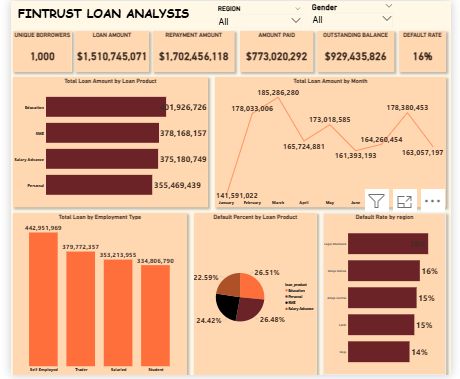

The dashboard page shown, as its layout file describes it:
{"tool":"powerbi","page":{"name":"LOAN","canvas":[2000,1700],"ordinal":0},"visuals":[{"type":"card","title":"UNIQUE BORROWERS","fields":{"Values":["CountNonNull(Loan.Loan_ID)"]},"box":[9.8,135.3,266.7,186.3],"z":0},{"type":"card","title":"AMOUNT PAID","fields":{"Values":["Sum(Payment.Amount_Paid)"]},"box":[1039.2,135.3,333.3,186.3],"z":1000},{"type":"card","title":"OUTSTANDING BALANCE","fields":{"Values":["1  unique borrowers.Oustanding balance"]},"box":[1392.2,135.3,351,186.3],"z":2000},{"type":"card","title":"LOAN AMOUNT","fields":{"Values":["Sum(Loan.Loan_Amount)"]},"box":[290.2,135.3,337.3,186.3],"z":3000},{"type":"card","title":"REPAYMENT AMOUNT","fields":{"Values":["Sum(Loan.Repayment_Amount)"]},"box":[647.1,135.3,370.6,186.3],"z":4000},{"type":"card","title":"DEFAULT RATE","fields":{"Values":["1  unique borrowers.DEFAULT%"]},"box":[1764.7,135.3,213.7,186.3],"z":5000},{"type":"clusteredBarChart","title":"Total Loan Amount by Loan Product","fields":{"Category":["3  Highest Loan product.Loan_Product"],"Y":["Sum(3  Highest Loan product.Loan_amount)"]},"box":[11.1,347.2,886.1,591.7],"z":6000},{"type":"lineChart","title":"Total Loan Amount by Month","fields":{"Category":["Loan.Disbursement_Date.Variation.Date Hierarchy.Month"],"Y":["Sum(Loan.Loan_Amount)"]},"box":[927.8,347.2,1050,591.7],"z":7000},{"type":"barChart","fields":{"Category":["5  Region by default percent.region"],"Y":["1  unique borrowers.DEFAULT%"]},"box":[1417.8,964.4,560,735.6],"z":8000},{"type":"pieChart","title":"Default Percent by Loan Product","fields":{"Category":["4  loan product default percent.loan_product"],"Y":["Sum(4  loan product default percent.default_percent)"]},"box":[833.3,964.4,557.8,735.6],"z":9000},{"type":"columnChart","title":"Total Loan by Employment Type","fields":{"Category":["customers.Employment_Type"],"Y":["Sum(Loan.Loan_Amount)"]},"box":[8.9,964.4,791.1,735.6],"z":10000},{"type":"slicer","fields":{"Values":["customers.Region"]},"box":[929.8,12.8,393.6,123.4],"z":11000},{"type":"slicer","fields":{"Values":["customers.Gender"]},"box":[1354.8,0,390.3,135.5],"z":12000},{"type":"textbox","box":[29,12.9,867.7,87.1],"z":13000}]}

Visuals, with their boxes on the page's 2000x1700 design canvas (x1, y1, x2, y2). These are canvas units, not pixel positions in the 460x379 screenshot, which may show the page scaled, cropped or inside an application window:
"UNIQUE BORROWERS" card: [10,135,276,322]
"AMOUNT PAID" card: [1039,135,1372,322]
"OUTSTANDING BALANCE" card: [1392,135,1743,322]
"LOAN AMOUNT" card: [290,135,628,322]
"REPAYMENT AMOUNT" card: [647,135,1018,322]
"DEFAULT RATE" card: [1765,135,1978,322]
"Total Loan Amount by Loan Product" clusteredBarChart: [11,347,897,939]
"Total Loan Amount by Month" lineChart: [928,347,1978,939]
barChart - 5  Region by default percent.region x 1  unique borrowers.DEFAULT%: [1418,964,1978,1700]
"Default Percent by Loan Product" pieChart: [833,964,1391,1700]
"Total Loan by Employment Type" columnChart: [9,964,800,1700]
slicer - customers.Region: [930,13,1323,136]
slicer - customers.Gender: [1355,0,1745,136]
textbox: [29,13,897,100]
